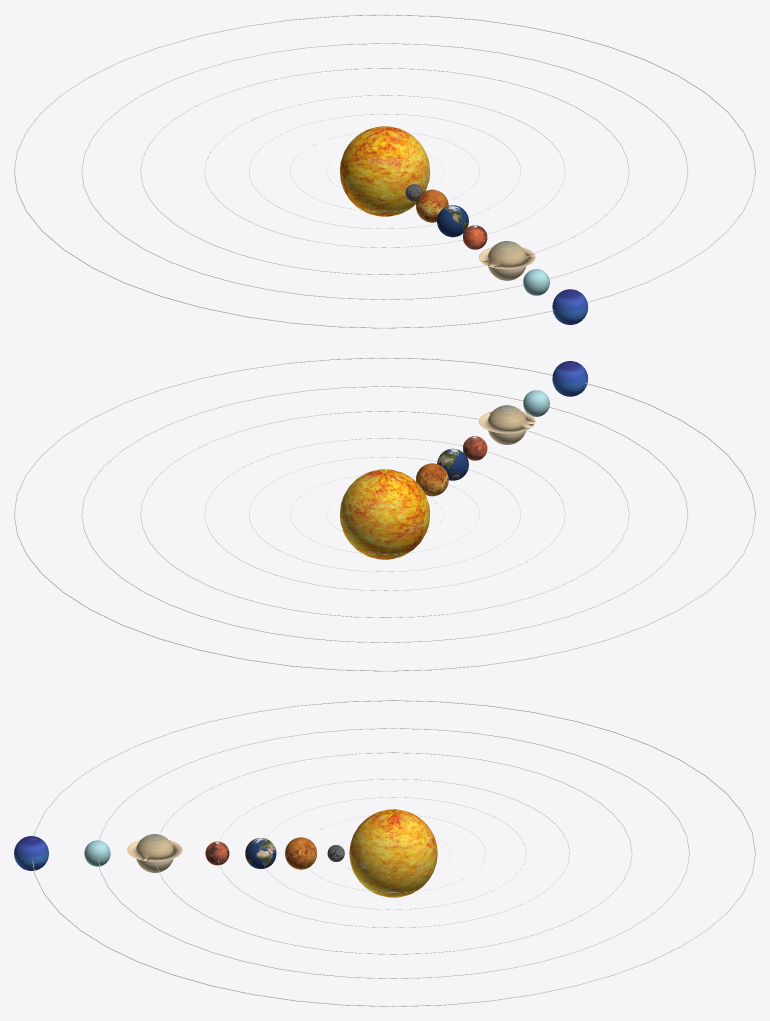
File: Surya.glb
The picture shows the model from 3 angles, top to bottom: view 1: azimuth 30°, elevation 25°; view 2: azimuth 150°, elevation 25°; view 3: azimuth 270°, elevation 25°; orthographic projection. The views are drawn at different scales.
Parts seen in each view (by area): view 1: MATAHARI, NEPTUNUS.001, URANUS.001, SATURNUS, SATURNUS.001, NEPTUNUS, BUMI, MARS.001, VENUS, URANUS; view 2: MATAHARI, NEPTUNUS.001, URANUS.001, SATURNUS, SATURNUS.001, NEPTUNUS, VENUS, MARS.001, BUMI, URANUS; view 3: MATAHARI, NEPTUNUS.001, URANUS.001, SATURNUS, SATURNUS.001, NEPTUNUS, VENUS, BUMI, MARS.001, URANUS.
Part boxes in pixels (x1=…): MATAHARI: x1=340, y1=126, x2=429, y2=216; NEPTUNUS.001: x1=14, y1=14, x2=755, y2=328; URANUS.001: x1=81, y1=43, x2=688, y2=299; SATURNUS: x1=478, y1=241, x2=535, y2=280; SATURNUS.001: x1=140, y1=68, x2=629, y2=274; NEPTUNUS: x1=552, y1=289, x2=588, y2=324; BUMI: x1=437, y1=205, x2=468, y2=237; MARS.001: x1=204, y1=95, x2=565, y2=247; VENUS: x1=416, y1=189, x2=448, y2=222; URANUS: x1=523, y1=269, x2=549, y2=295; MATAHARI: x1=340, y1=469, x2=429, y2=559; NEPTUNUS.001: x1=14, y1=357, x2=755, y2=671; URANUS.001: x1=81, y1=386, x2=688, y2=642; SATURNUS: x1=478, y1=405, x2=535, y2=444; SATURNUS.001: x1=140, y1=411, x2=629, y2=617; NEPTUNUS: x1=552, y1=361, x2=588, y2=396; VENUS: x1=416, y1=463, x2=448, y2=496; MARS.001: x1=204, y1=438, x2=565, y2=590; BUMI: x1=437, y1=448, x2=468, y2=480; URANUS: x1=523, y1=390, x2=549, y2=416; MATAHARI: x1=349, y1=809, x2=437, y2=897; NEPTUNUS.001: x1=32, y1=700, x2=755, y2=1006; URANUS.001: x1=98, y1=728, x2=689, y2=978; SATURNUS: x1=127, y1=834, x2=182, y2=872; SATURNUS.001: x1=156, y1=752, x2=632, y2=954; NEPTUNUS: x1=14, y1=836, x2=48, y2=870; VENUS: x1=285, y1=837, x2=317, y2=869; BUMI: x1=245, y1=838, x2=276, y2=868; MARS.001: x1=218, y1=779, x2=569, y2=927; URANUS: x1=84, y1=840, x2=110, y2=866.
Size of the model in its own units: 46.24 by 5.64 by 47.34.
9 materials, 8 textured.
